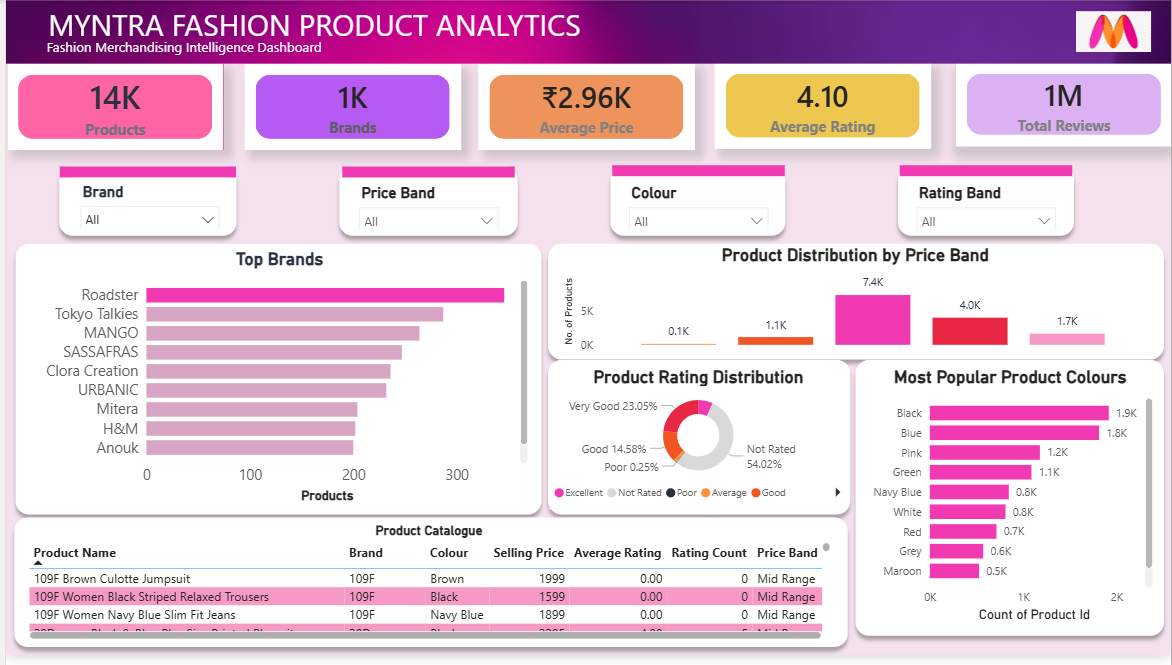

The page's visual inventory and layout, read from the dashboard file:
{"tool":"powerbi","page":{"name":"Page 1","canvas":[1280,720],"ordinal":0},"visuals":[{"type":"textbox","box":[23.3,101.5,1257,17.8],"z":0},{"type":"shape","box":[49.4,174.3,212.7,94.7],"z":1000},{"type":"shape","box":[356.8,174.3,214.1,94.7],"z":2000},{"type":"shape","box":[654.5,174.3,209.9,94.7],"z":3000},{"type":"shape","box":[970.2,174.3,211.3,94.7],"z":4000},{"type":"shape","box":[59,183.9,193.5,12.3],"z":5000},{"type":"shape","box":[665.5,182.5,189.4,12.3],"z":6000},{"type":"shape","box":[981.1,182.5,189.4,12.3],"z":7000},{"type":"shape","box":[369.1,183.9,189.4,12.3],"z":8000},{"type":"shape","box":[1.4,259.3,595.5,315.6],"z":9000},{"type":"shape","box":[585.9,259.3,694.3,145.5],"z":10000},{"type":"shape","box":[585.9,387,349.9,188],"z":11000},{"type":"shape","box":[0,559.9,933.1,160.5],"z":12000},{"type":"cardVisual","fields":{"Data":["Fashion Dataset.Total Products"]},"box":[1.4,71.4,237.4,94.7],"z":13000},{"type":"cardVisual","fields":{"Data":["Fashion Dataset.Average Product Rating"]},"box":[778,70,237.4,94.7],"z":14000},{"type":"cardVisual","fields":{"Data":["Fashion Dataset.Average Price"]},"box":[518.7,71.4,237.4,94.7],"z":15000},{"type":"cardVisual","fields":{"Data":["Fashion Dataset.Total Brands"]},"box":[262.1,71.4,237.4,94.7],"z":16000},{"type":"cardVisual","fields":{"Data":["Fashion Dataset.Total Rating Count"]},"box":[1042.9,70,237.4,91.9],"z":17000},{"type":"clusteredBarChart","title":"Top Brands","fields":{"Category":["Fashion Dataset.Brand"],"Y":["CountNonNull(Fashion Dataset.Product Id)"]},"box":[23.3,274.4,554.4,284],"z":18000},{"type":"clusteredColumnChart","title":"Product Distribution by Price Band","fields":{"Y":["CountNonNull(Fashion Dataset.Product Id)"],"Category":["Fashion Dataset.Price Band"]},"box":[607.9,270.3,649.1,123.5],"z":19000},{"type":"donutChart","title":"Product Rating Distribution","fields":{"Y":["CountNonNull(Fashion Dataset.Product Id)"],"Category":["Fashion Dataset.Rating Band"]},"box":[596.9,403.4,326.6,156.4],"z":20000},{"type":"shape","box":[923.5,387,356.8,321.1],"z":21000},{"type":"clusteredBarChart","title":"Most Popular Product Colours","fields":{"Category":["Fashion Dataset.Colour"],"Y":["CountNonNull(Fashion Dataset.Product Id)"]},"box":[941.3,403.4,322.5,285.4],"z":22000},{"type":"tableEx","title":"Product Catalogue","fields":{"Values":["Fashion Dataset.Product Name","Fashion Dataset.Brand","Fashion Dataset.Colour","Fashion Dataset.Selling Price","Fashion Dataset.Average Rating","Fashion Dataset.Rating Count","Fashion Dataset.Price Band"]},"box":[19.2,575,890.6,133.1],"z":23000},{"type":"slicer","fields":{"Values":["Fashion Dataset.Brand"]},"box":[71.4,196.2,172.9,56.3],"z":24000},{"type":"slicer","fields":{"Values":["Fashion Dataset.Price Band"]},"box":[377.4,197.6,172.9,56.3],"z":25000},{"type":"slicer","fields":{"Values":["Fashion Dataset.Colour"]},"box":[673.8,197.6,172.9,56.3],"z":26000},{"type":"slicer","fields":{"Values":["Fashion Dataset.Rating Band"]},"box":[989.4,197.6,172.9,56.3],"z":27000},{"type":"image","box":[0,1.4,1280.3,70],"z":28000},{"type":"textbox","box":[1.4,1.4,724.5,57.6],"z":29000},{"type":"textbox","box":[39.8,37,583.2,34.3],"z":30000},{"type":"image","box":[1174.6,1.4,82.3,68.6],"z":31000}]}

Visuals, with their boxes in screenshot pixels (x1, y1, x2, y2), scaled from the page's 1280x720 canvas onto the 1172x665 screenshot:
textbox: Rect(21, 94, 1171, 110)
shape: Rect(45, 161, 240, 248)
shape: Rect(327, 161, 523, 248)
shape: Rect(599, 161, 791, 248)
shape: Rect(888, 161, 1082, 248)
shape: Rect(54, 170, 231, 181)
shape: Rect(609, 169, 783, 180)
shape: Rect(898, 169, 1072, 180)
shape: Rect(338, 170, 511, 181)
shape: Rect(1, 239, 547, 531)
shape: Rect(536, 239, 1171, 374)
shape: Rect(536, 357, 857, 531)
shape: Rect(0, 517, 854, 664)
cardVisual - Fashion Dataset.Total Products: Rect(1, 66, 219, 153)
cardVisual - Fashion Dataset.Average Product Rating: Rect(712, 65, 930, 152)
cardVisual - Fashion Dataset.Average Price: Rect(475, 66, 692, 153)
cardVisual - Fashion Dataset.Total Brands: Rect(240, 66, 457, 153)
cardVisual - Fashion Dataset.Total Rating Count: Rect(955, 65, 1171, 150)
"Top Brands" clusteredBarChart: Rect(21, 253, 529, 516)
"Product Distribution by Price Band" clusteredColumnChart: Rect(557, 250, 1151, 364)
"Product Rating Distribution" donutChart: Rect(547, 373, 846, 517)
shape: Rect(846, 357, 1171, 654)
"Most Popular Product Colours" clusteredBarChart: Rect(862, 373, 1157, 636)
"Product Catalogue" tableEx: Rect(18, 531, 833, 654)
slicer - Fashion Dataset.Brand: Rect(65, 181, 224, 233)
slicer - Fashion Dataset.Price Band: Rect(346, 183, 504, 235)
slicer - Fashion Dataset.Colour: Rect(617, 183, 775, 235)
slicer - Fashion Dataset.Rating Band: Rect(906, 183, 1064, 235)
image: Rect(0, 1, 1171, 66)
textbox: Rect(1, 1, 665, 54)
textbox: Rect(36, 34, 570, 66)
image: Rect(1075, 1, 1151, 65)
